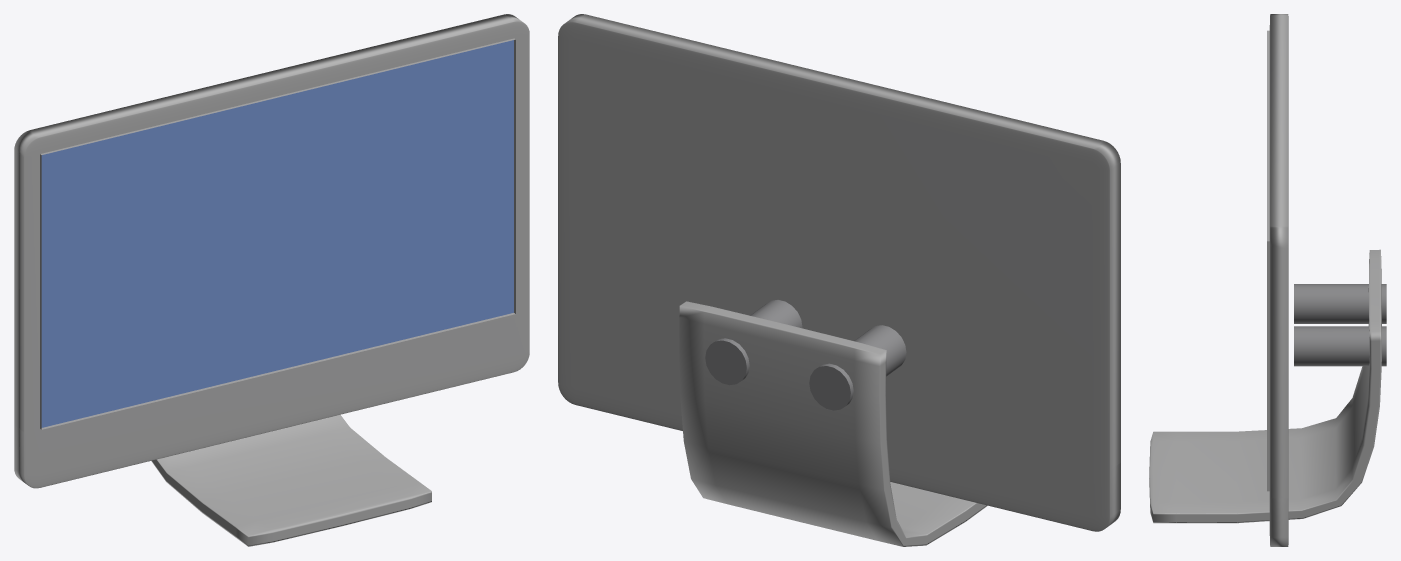
3 renders of one model, left to right at view 1: azimuth 30°, elevation 25°; view 2: azimuth 150°, elevation 25°; view 3: azimuth 270°, elevation 25°, orthographic. The views are drawn at different scales.
Visible parts, largest first — view 1: screen, bottompartmonitor, toppartmonitor, support; view 2: toppartmonitor, support, bottompartmonitor, supportpiece2, supporpiece1; view 3: support, toppartmonitor, supporpiece1, supportpiece2, bottompartmonitor.
Boxes of the visible parts, box(x1,y1,x2,y2) form: screen: box(41, 40, 513, 427); bottompartmonitor: box(14, 309, 529, 488); toppartmonitor: box(14, 14, 529, 432); support: box(151, 414, 431, 546); toppartmonitor: box(558, 14, 1120, 470); support: box(679, 301, 987, 546); bottompartmonitor: box(558, 336, 1120, 531); supportpiece2: box(809, 325, 906, 410); supporpiece1: box(705, 300, 802, 385); support: box(1149, 249, 1381, 523); toppartmonitor: box(1267, 14, 1288, 498); supporpiece1: box(1294, 326, 1386, 366); supportpiece2: box(1294, 284, 1386, 323); bottompartmonitor: box(1269, 494, 1288, 546).
Bounding box in the file's own units: 0.7862 × 0.5913 × 0.351.
